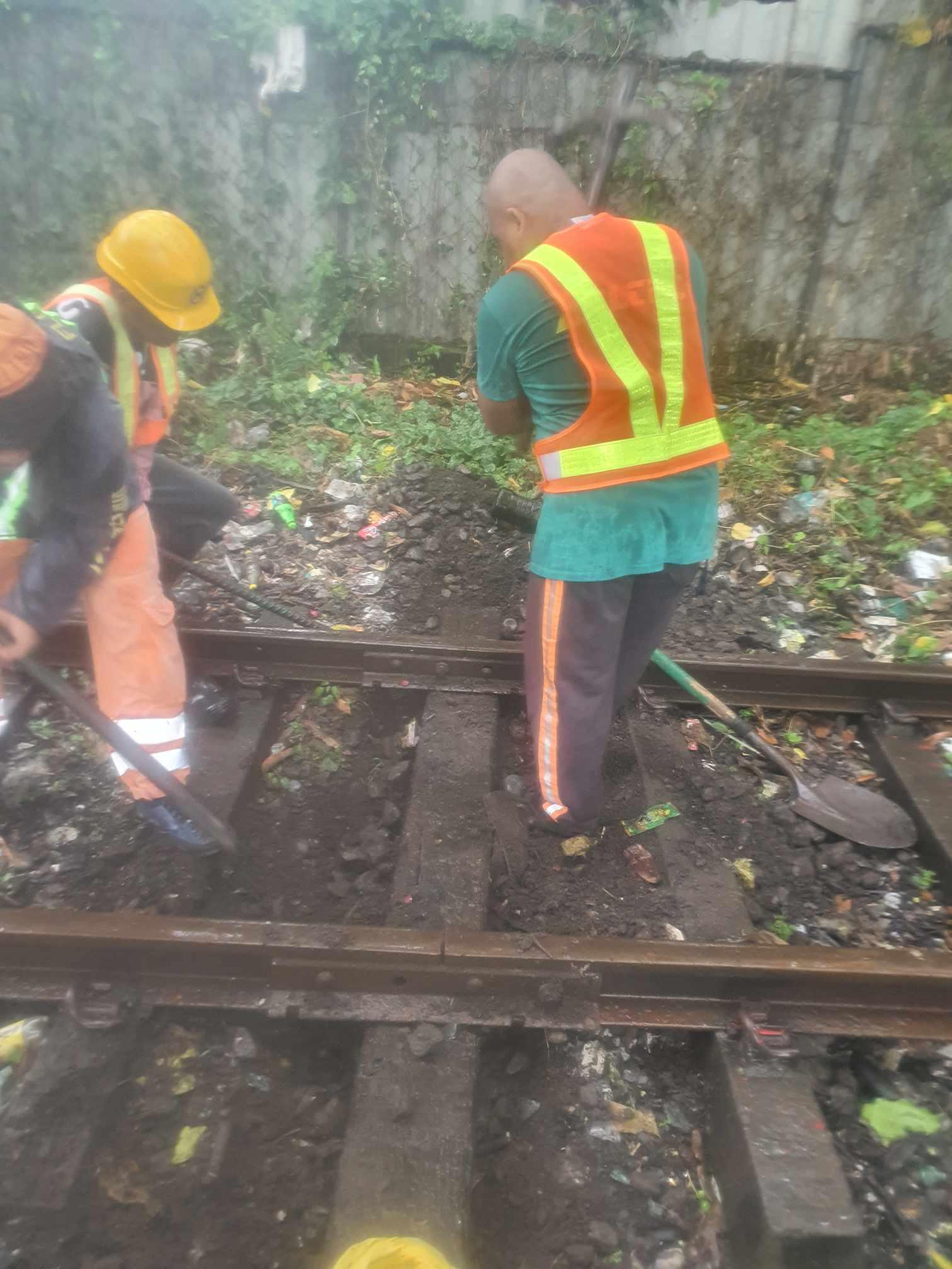railway-gap: (425, 610, 505, 689), (401, 908, 478, 985)
